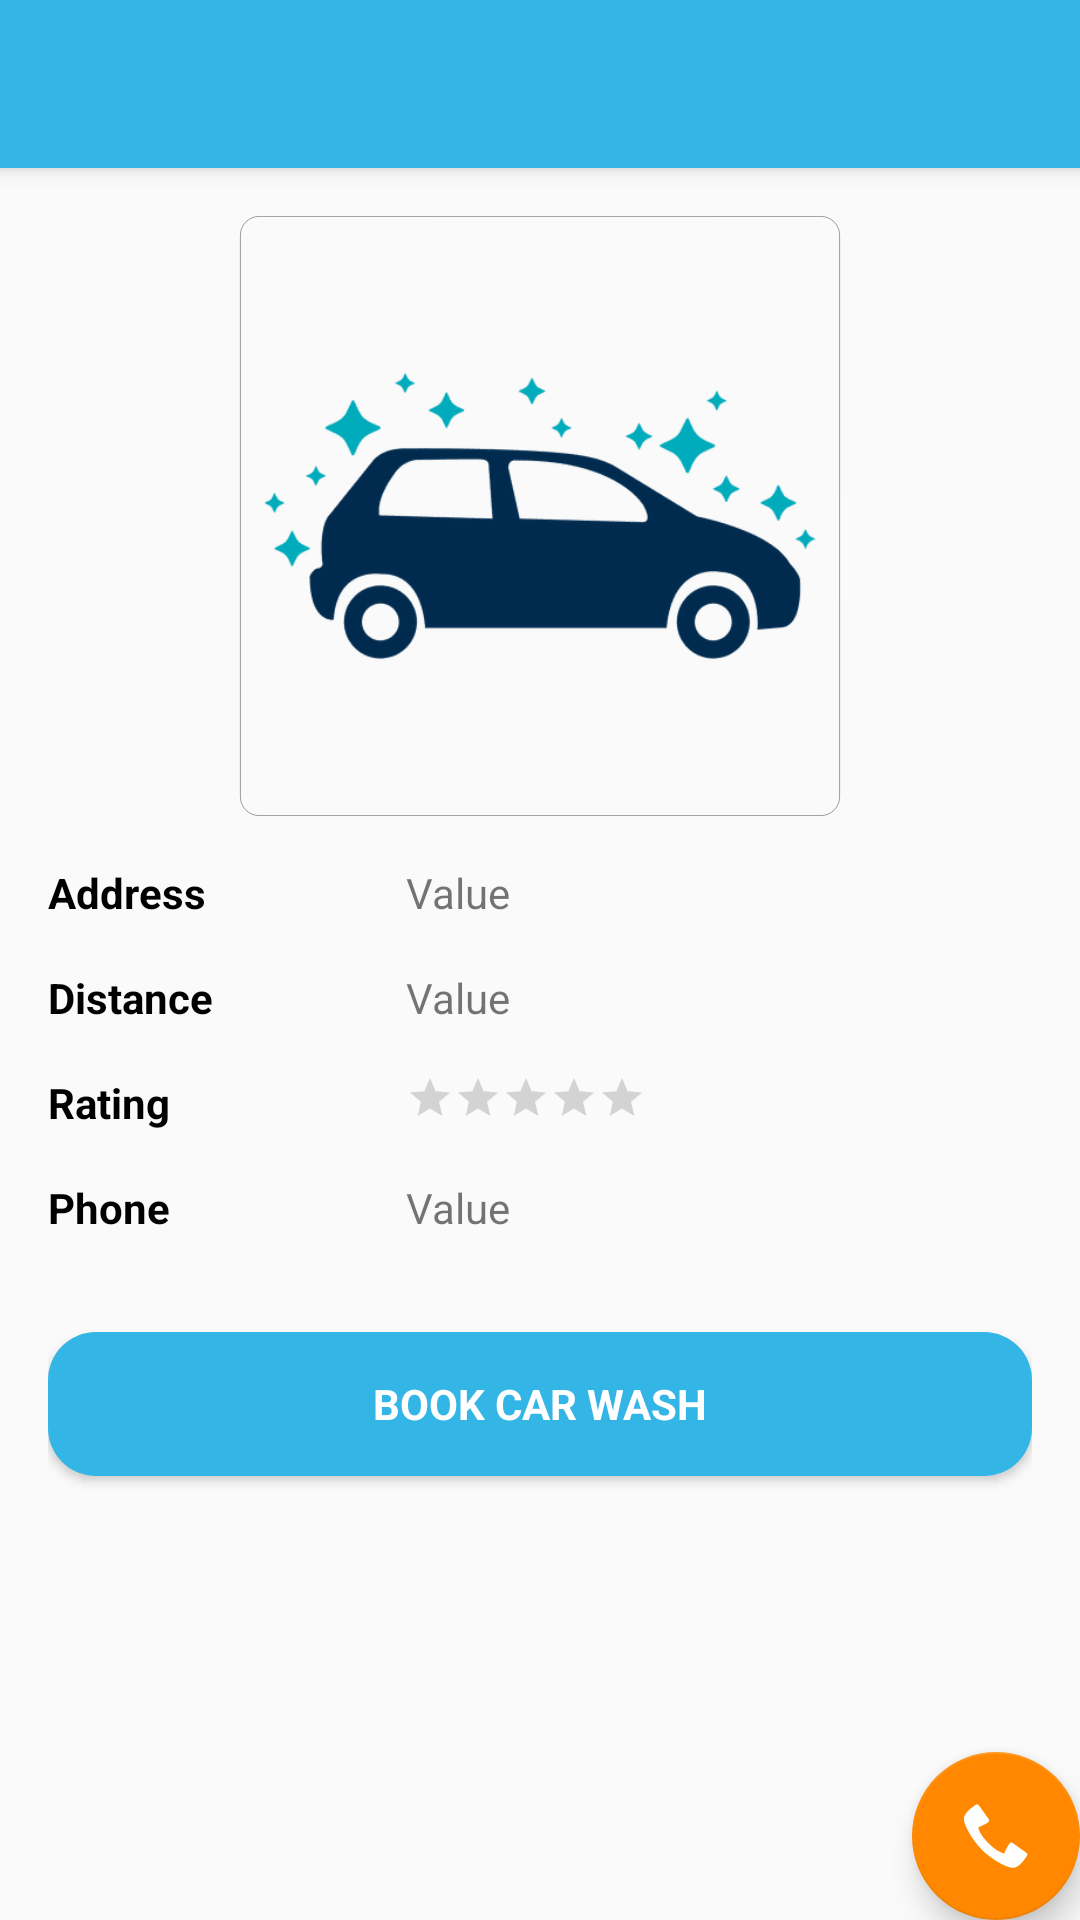

Screen size 1080*1920. Icon name, then its box in pixels as bbox=(x1, y1, x2, y2):
phone call: bbox=(912, 1752, 1080, 1920)
